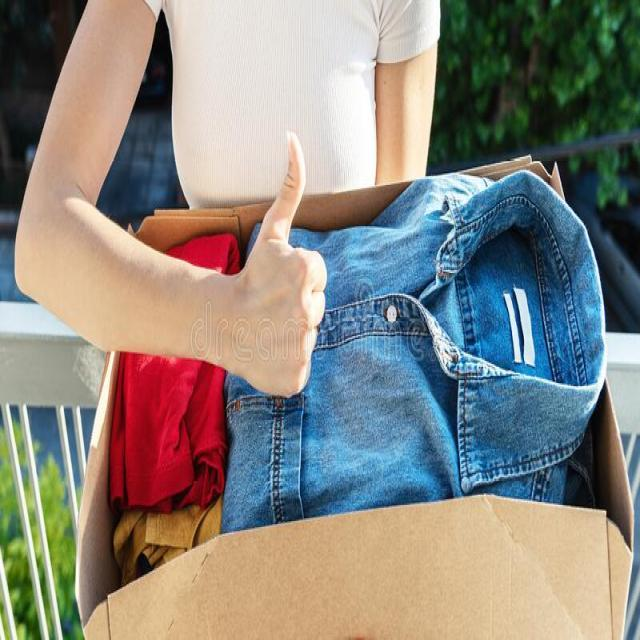clothes: (332, 168, 604, 511), (128, 388, 326, 544)
